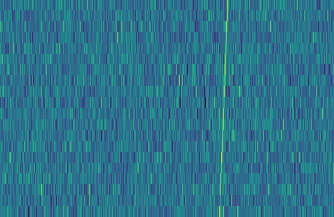signal: (215, 0, 233, 217)
